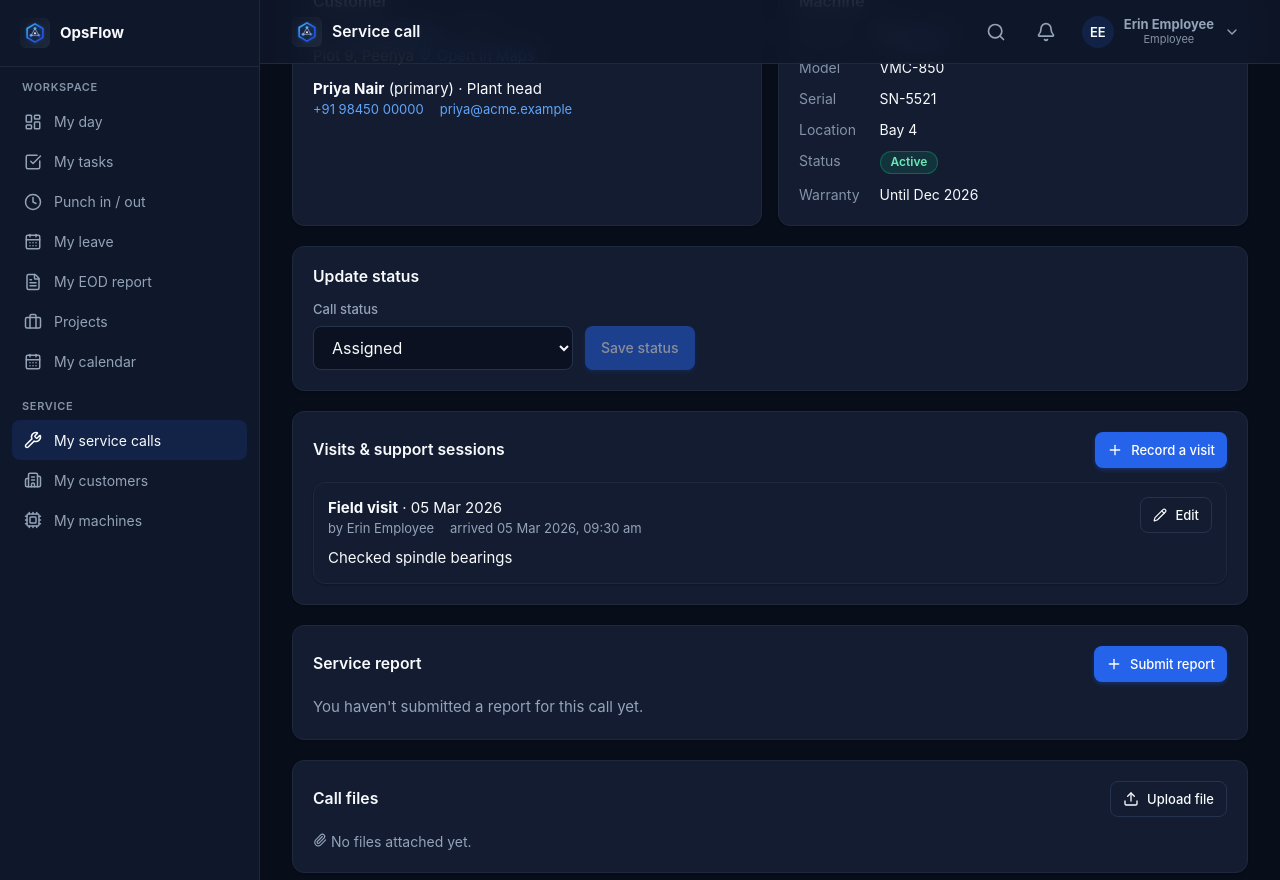
Test case: Service call detail › will not save a visit that ends before it starts, or has no work described
Click the button "Record a visit". click: (1161, 450)
box: [1095,432,1227,468]
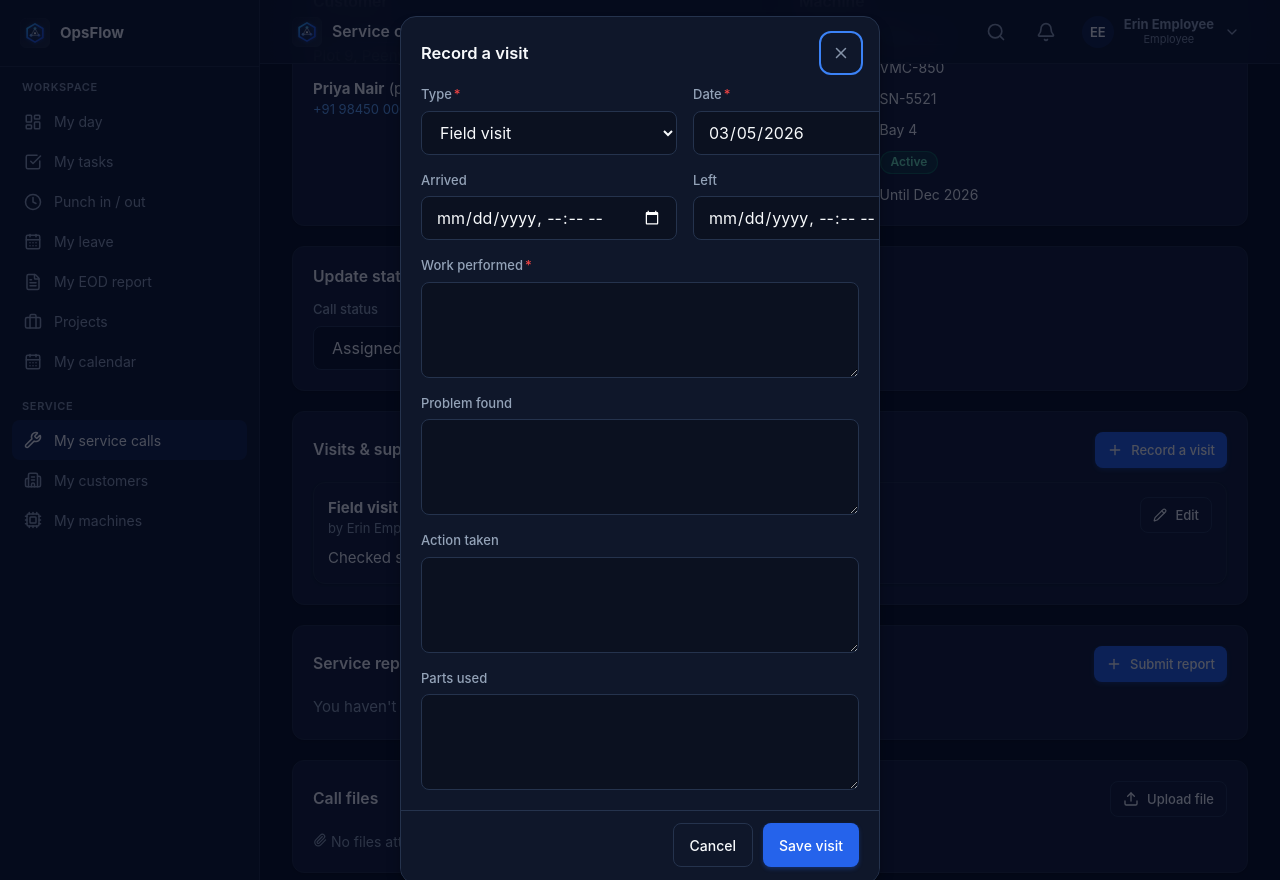
Type "2026-03-05T11:00" into the field labelled "Arrived". click: (549, 218)
box: [421,196,677,240]
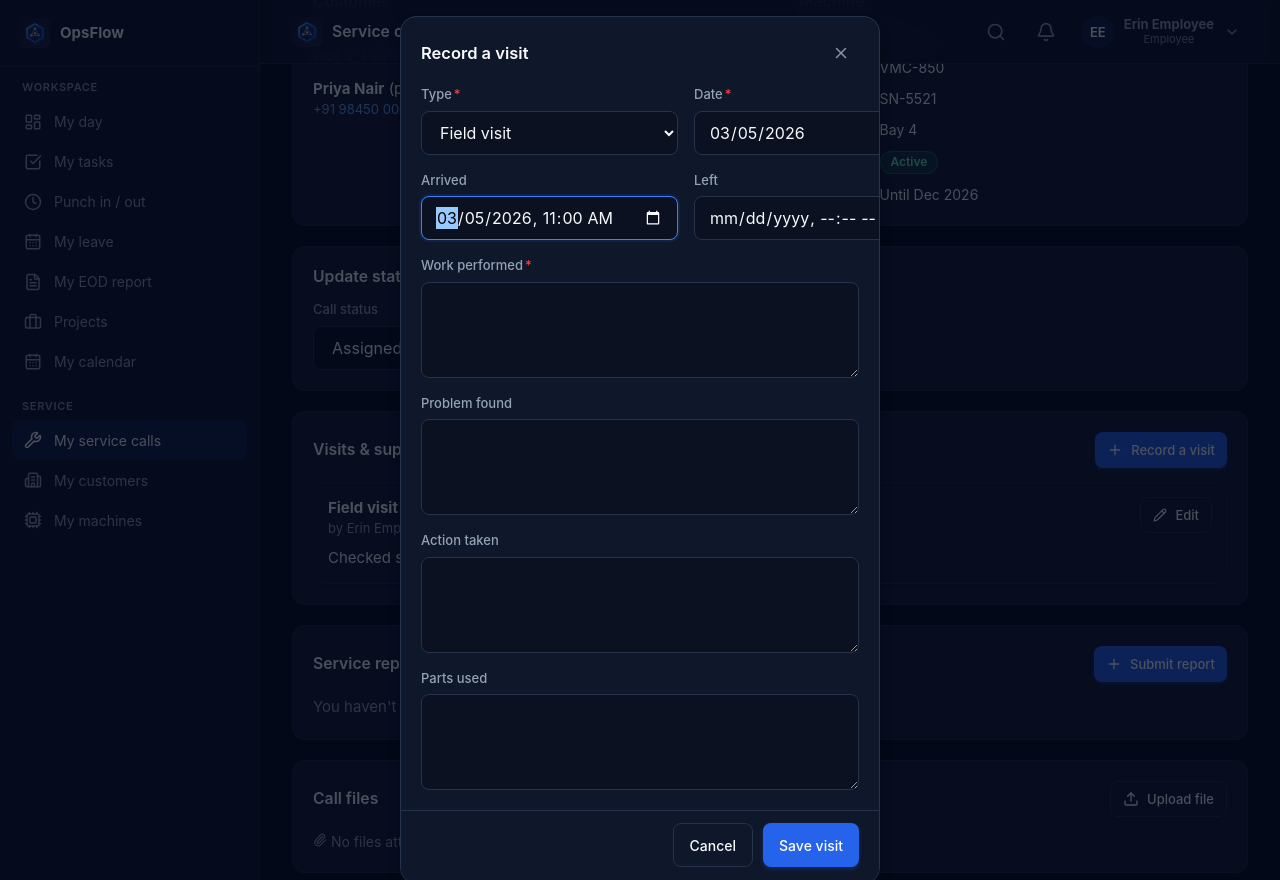
Type "2026-03-05T09:00" into the field labelled "Left". click: (822, 218)
box: [694,196,950,240]
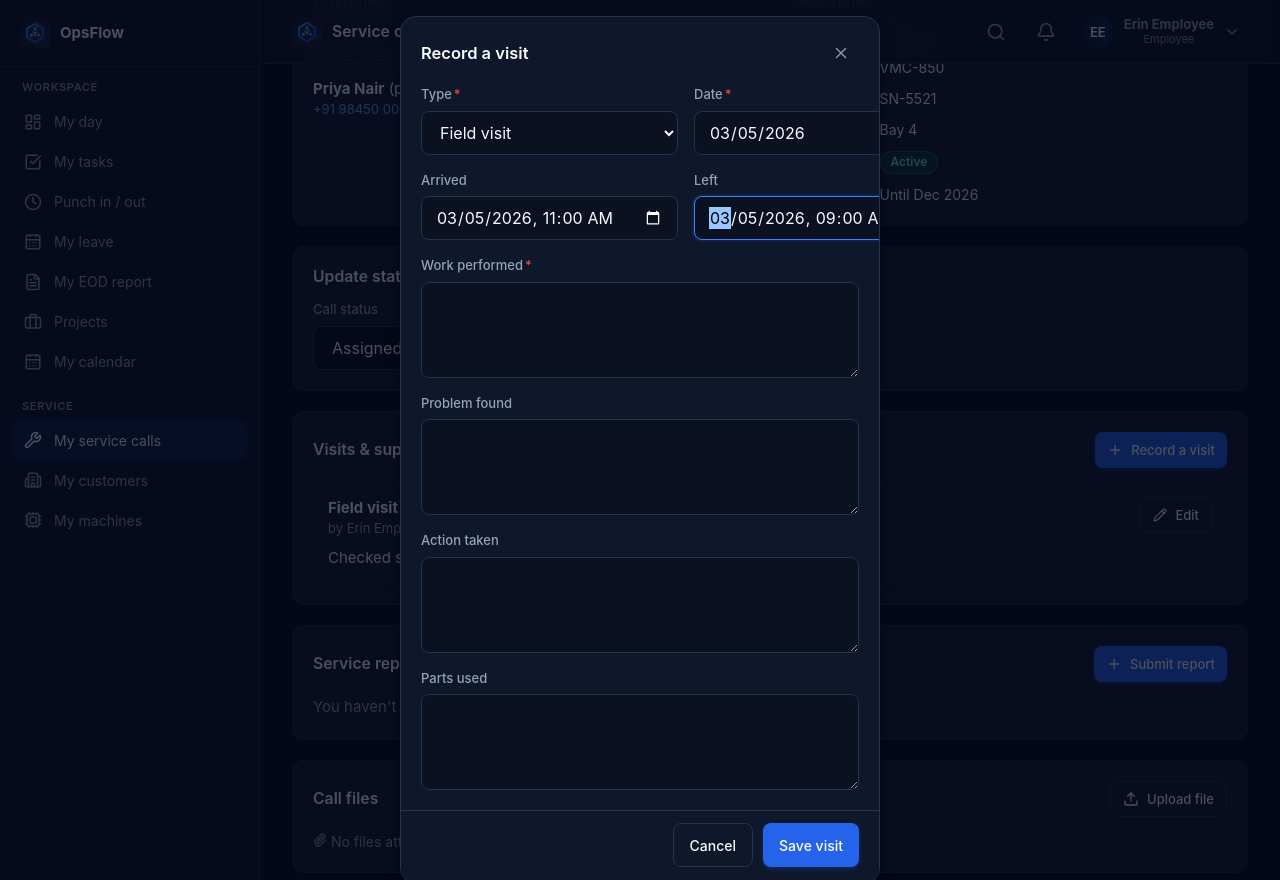
Click the button "Save visit". click: (811, 845)
box: [763,823,859,867]
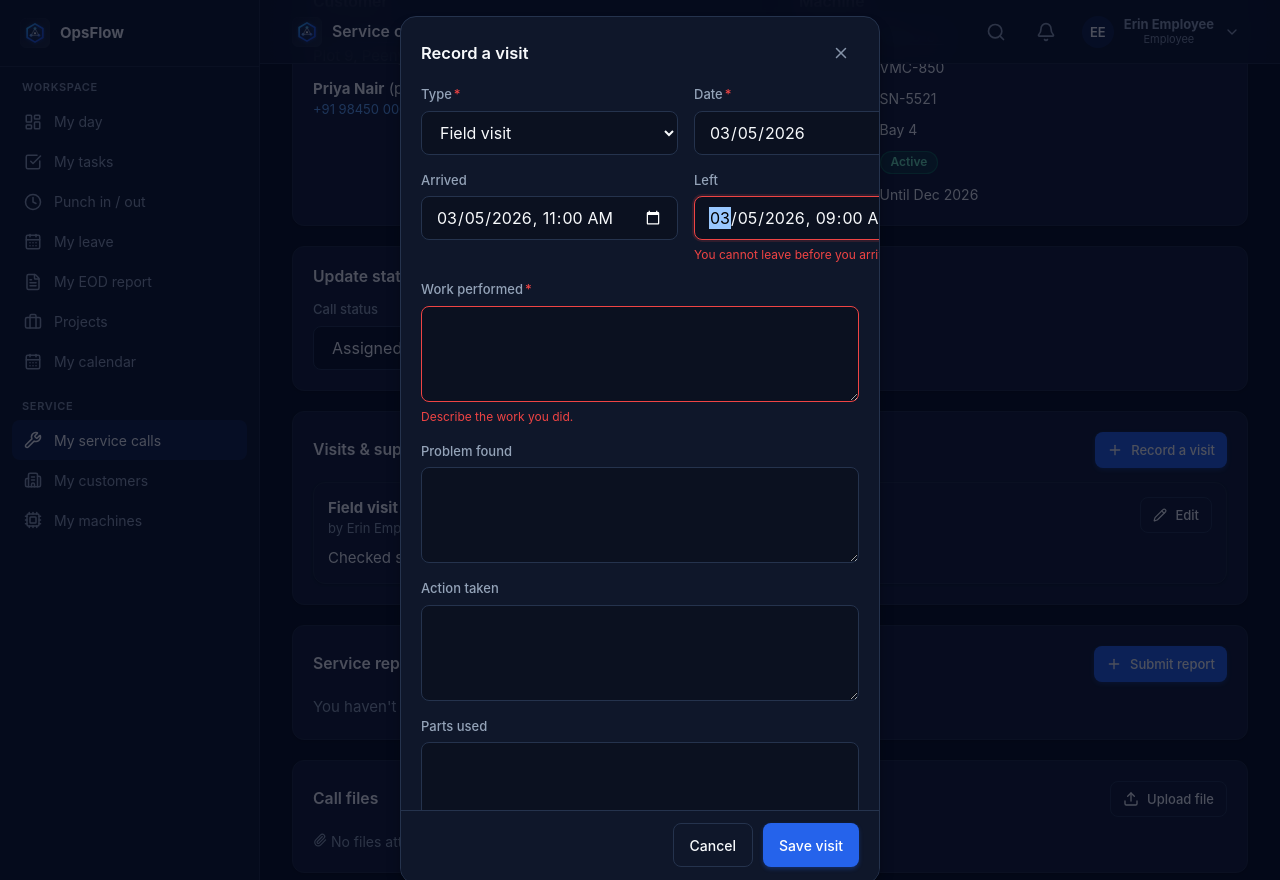
Expected: the text "You cannot leave before you arrive." is shown, [694,247,879,262]
Expected: the text "Describe the work you did." is shown, [421,408,573,424]
